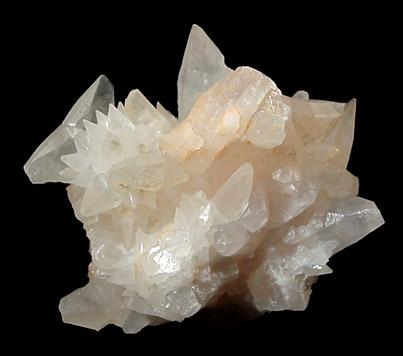calcite: (24, 25, 385, 334)
